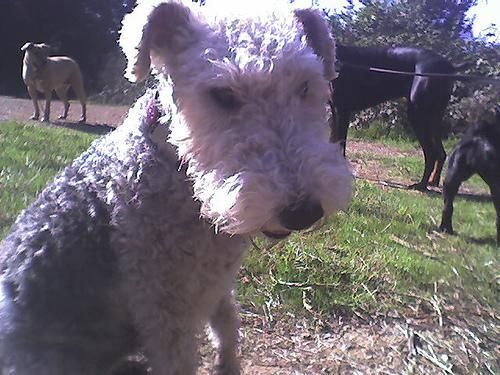wire-haired_fox_terrier: (0, 0, 359, 372)
